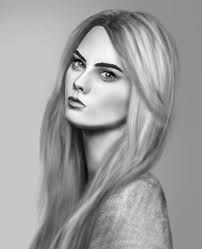no-mask: (61, 20, 149, 139)
